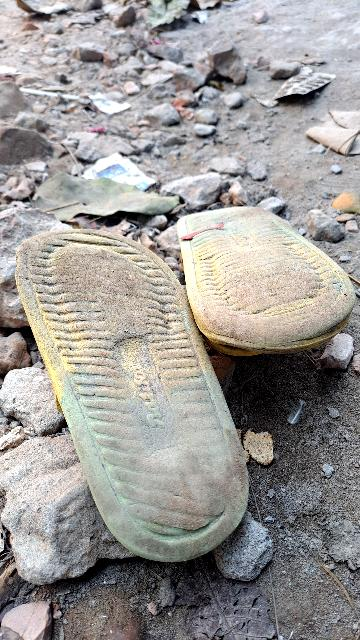sandal: (0, 185, 282, 583), (171, 188, 360, 336)
